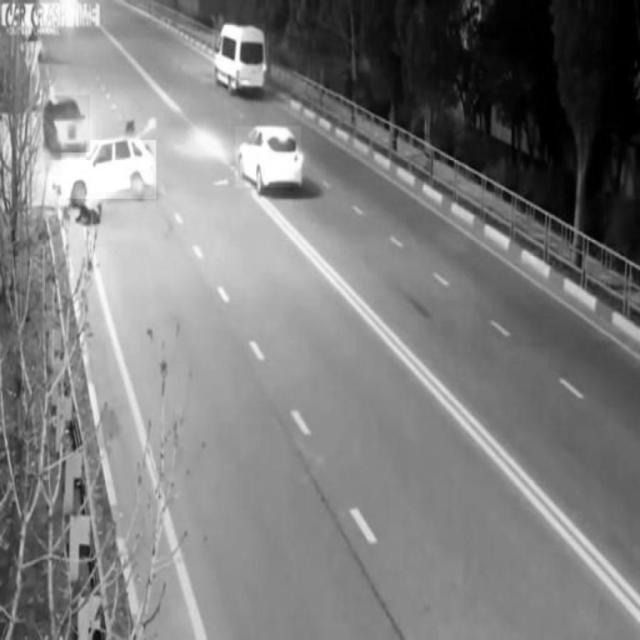vehicle: (62, 140, 156, 198), (235, 127, 301, 188), (212, 24, 266, 86), (43, 95, 90, 152)
